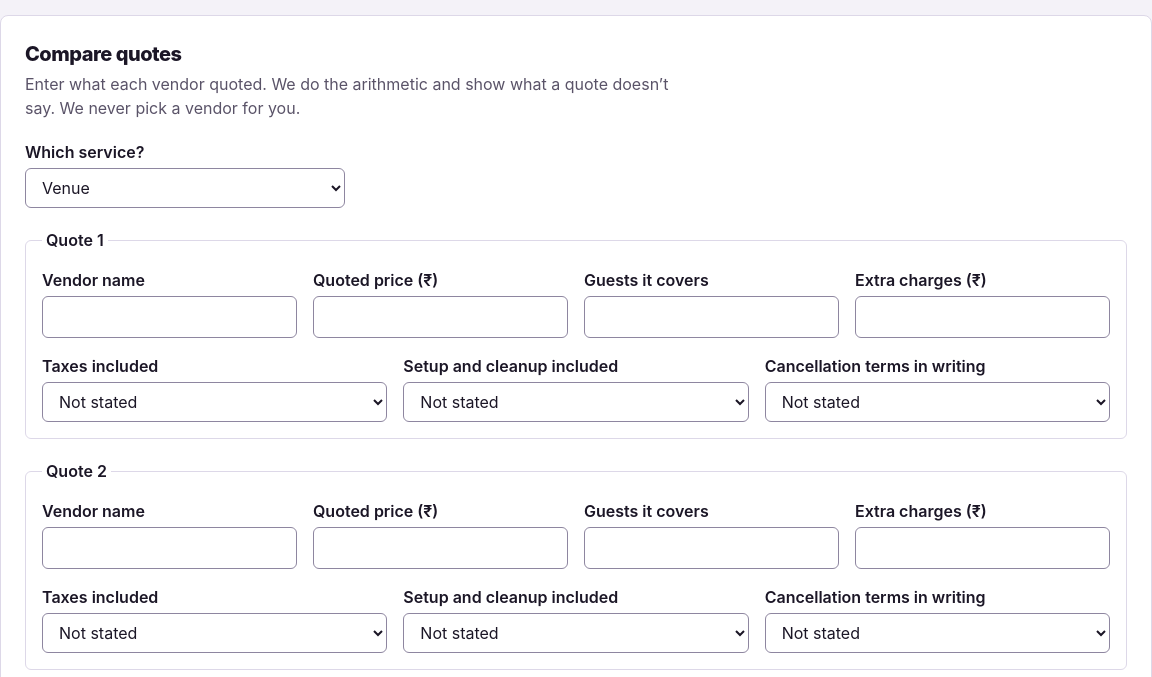
Test: vendors › asks for at least two priced quotes
(page scrolled)
In the 1st field labelled "Quoted price (₹)": [440, 317] box left=313, top=296, right=568, bottom=338, type "200000"
(page scrolled)
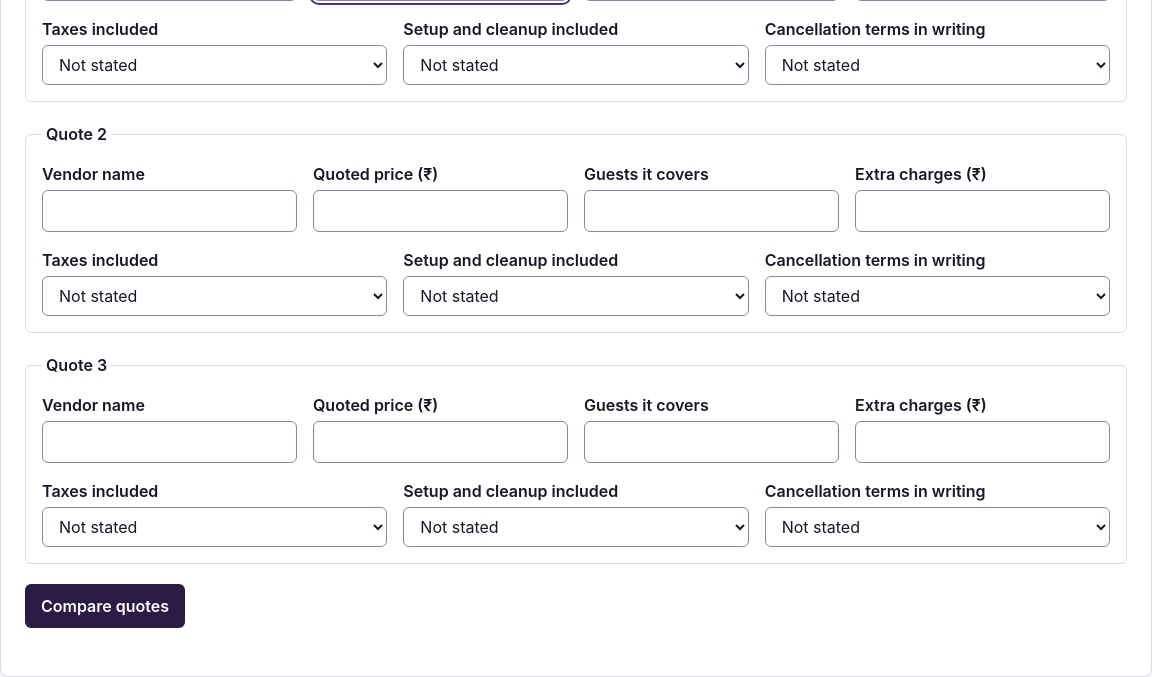
Click the button "Compare quotes": [105, 606] box left=25, top=584, right=185, bottom=628
(page scrolled)
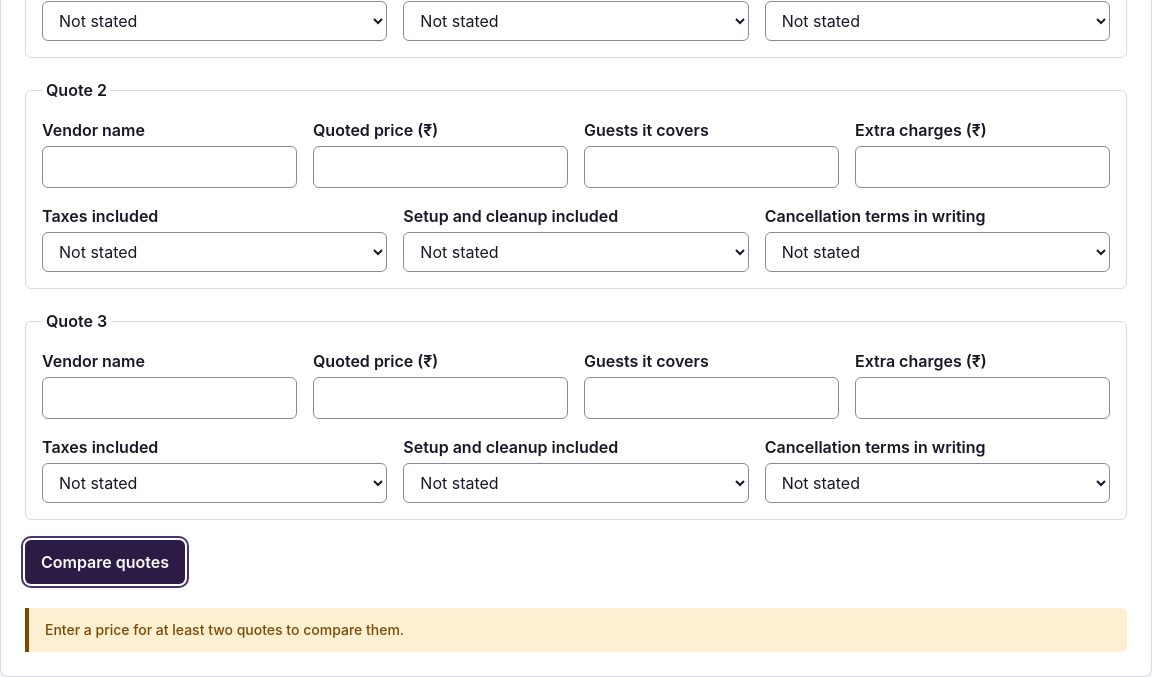
Expected: the message shows "at least two quotes", left=45, top=621, right=404, bottom=638
